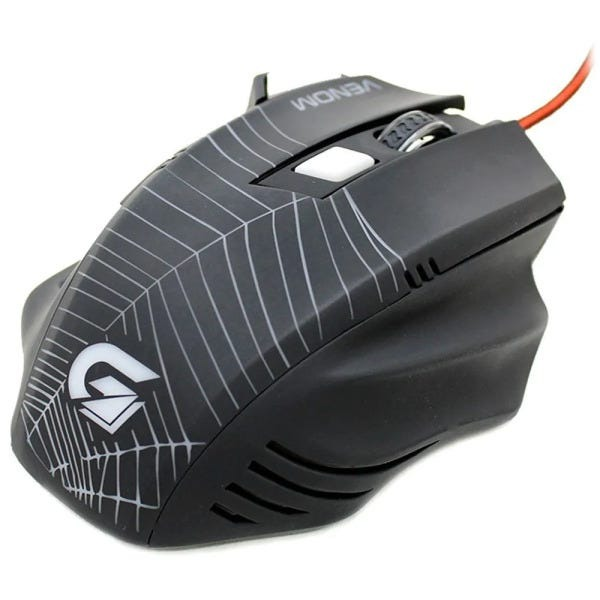mouse: (14, 67, 561, 548)
